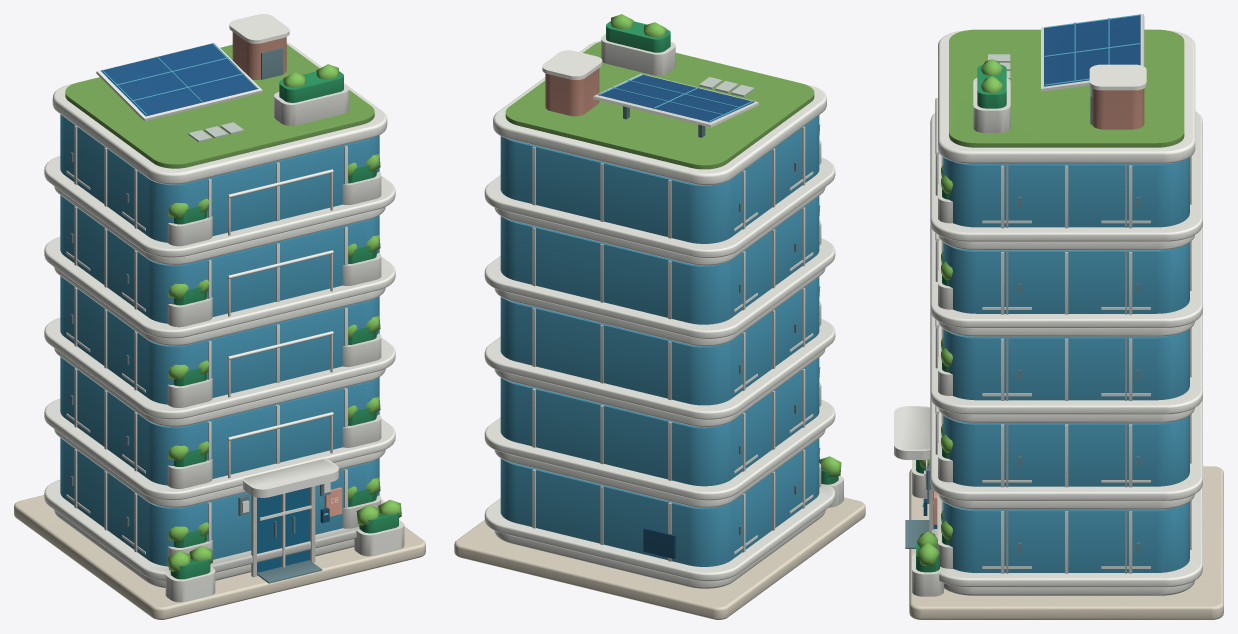
Rendered from townhouse-pink.glb.
3 views of the same model, side by side, from view 1: azimuth 30°, elevation 25°; view 2: azimuth 150°, elevation 25°; view 3: azimuth 270°, elevation 25° (orthographic). The views are drawn at different scales.
Visible parts, largest first — view 1: continuous blue glazing, floor rim, green roof, paved building footprint, photovoltaic cells, planter foliage, shrub tip, recessed entrance, roof access hatch, roof access, maintenance stepping stone; view 2: continuous blue glazing, floor rim, green roof, paved building footprint, photovoltaic cells, roof access, planter foliage, shrub tip, entry intercom, maintenance stepping stone; view 3: continuous blue glazing, floor rim, green roof, paved building footprint, photovoltaic cells, shrub tip, roof access, building movement joint, planter foliage, roof access hatch.
Part boxes in pixels (box(x1,y1,x2,y2)): continuous blue glazing: box(60, 43, 379, 566); floor rim: box(44, 14, 404, 602); green roof: box(65, 44, 374, 168); paved building footprint: box(14, 495, 425, 619); photovoltaic cells: box(101, 43, 258, 116); planter foliage: box(170, 71, 398, 579); shrub tip: box(168, 64, 401, 571); recessed entrance: box(257, 487, 309, 572); roof access hatch: box(70, 48, 330, 583); roof access: box(232, 32, 342, 516); maintenance stepping stone: box(188, 122, 243, 142); continuous blue glazing: box(500, 74, 819, 566); floor rim: box(484, 34, 843, 588); green roof: box(505, 41, 814, 169); paved building footprint: box(454, 497, 865, 619); photovoltaic cells: box(597, 75, 754, 122); roof access: box(545, 68, 599, 116); planter foliage: box(606, 21, 838, 484); shrub tip: box(610, 14, 841, 477); entry intercom: box(643, 527, 675, 559); maintenance stepping stone: box(699, 77, 754, 96); continuous blue glazing: box(943, 14, 1189, 572); floor rim: box(894, 14, 1202, 596); green roof: box(949, 29, 1184, 147); paved building footprint: box(909, 466, 1223, 619); photovoltaic cells: box(1044, 14, 1140, 86); shrub tip: box(917, 59, 1002, 565); roof access: box(934, 88, 1144, 524); building movement joint: box(1006, 163, 1126, 573); planter foliage: box(916, 65, 1006, 572); roof access hatch: box(905, 87, 1140, 552).
Bounding box in the file's own units: 2.72 × 4.56 × 2.66.
